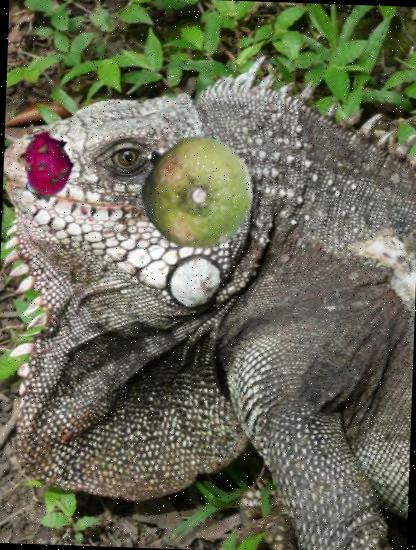Limes: (137, 132, 257, 252)
Pitahaya: (10, 129, 86, 205)
